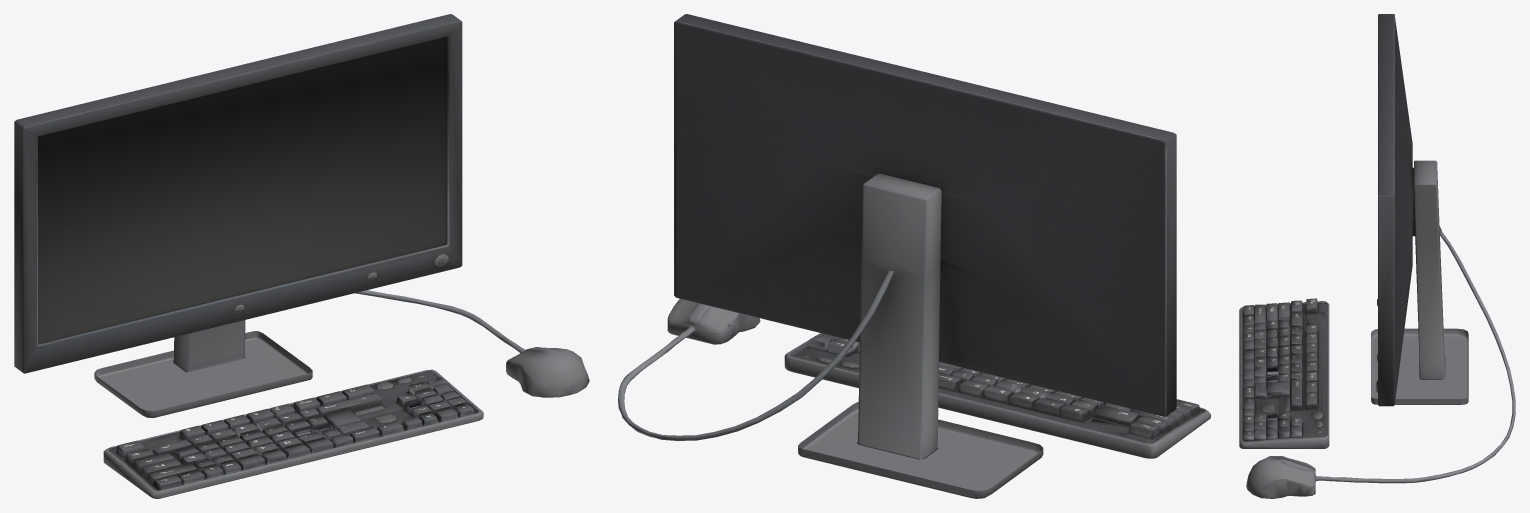
Rendered from computer-set-v1.glb.
The picture shows the model from 3 angles, left to right: view 1: azimuth 30°, elevation 25°; view 2: azimuth 150°, elevation 25°; view 3: azimuth 270°, elevation 25°; orthographic projection. The views are drawn at different scales.
Visible parts, largest first — view 1: tripo_node_fa50cabc-9e79-4548-8c2e-1720f6d677c8; view 2: tripo_node_fa50cabc-9e79-4548-8c2e-1720f6d677c8; view 3: tripo_node_fa50cabc-9e79-4548-8c2e-1720f6d677c8.
Part boxes in pixels (x1,y1,x2,y2): tripo_node_fa50cabc-9e79-4548-8c2e-1720f6d677c8: [14, 14, 589, 498]; tripo_node_fa50cabc-9e79-4548-8c2e-1720f6d677c8: [618, 14, 1210, 498]; tripo_node_fa50cabc-9e79-4548-8c2e-1720f6d677c8: [1239, 14, 1515, 498].
Bounding box in the file's own units: 0.8 × 0.5 × 0.45.
Materials: 1 (1 with a texture image).
